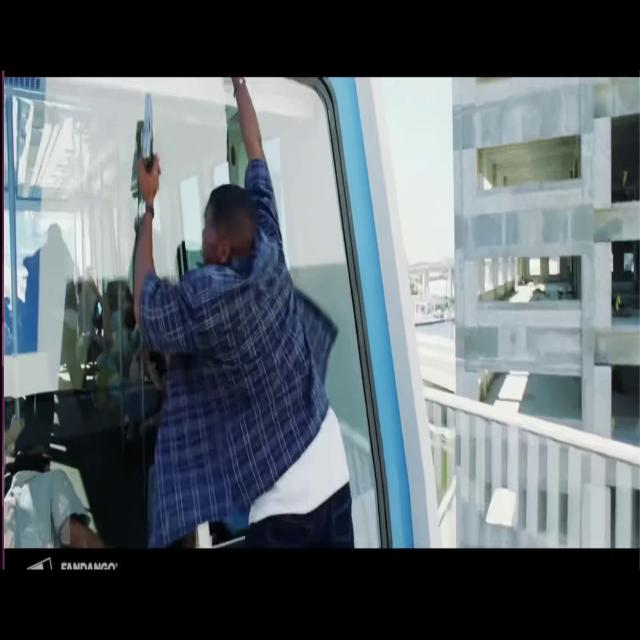weapons: (131, 81, 170, 206)
